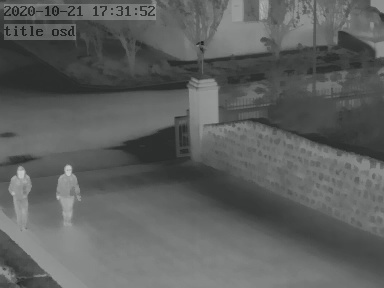person: (55, 159, 82, 223), (8, 162, 33, 227)
